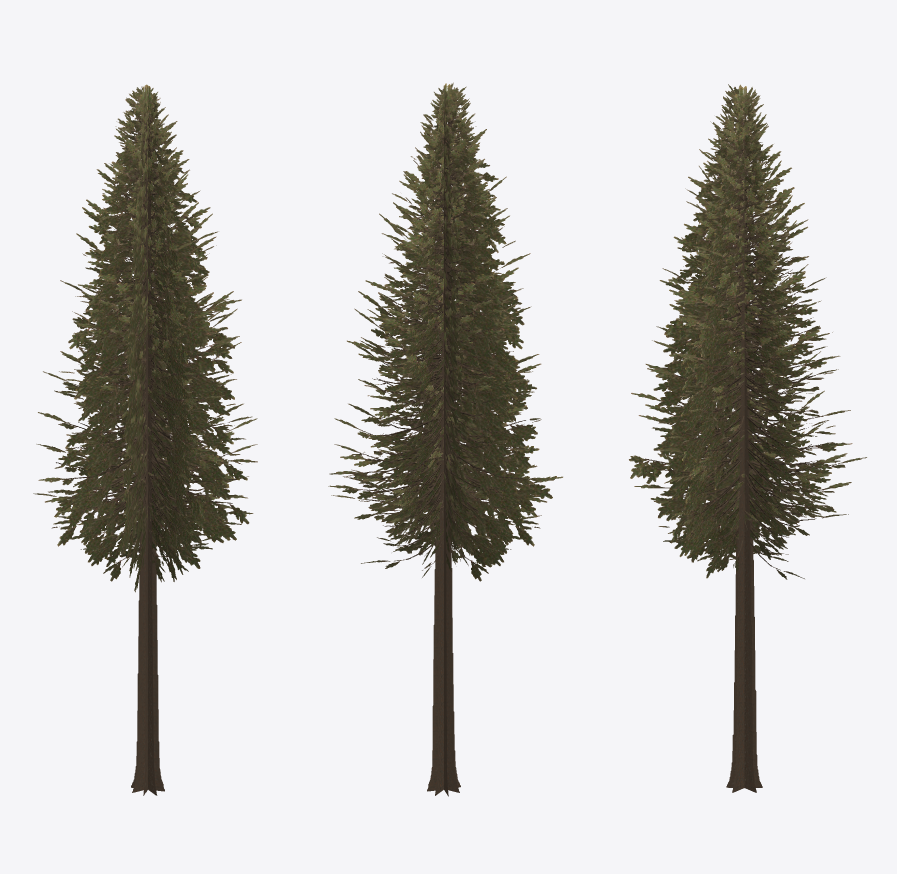
Rendered from fir_giant_a_lod3_cross.gltf.
3 views of the same model, side by side, from view 1: azimuth 30°, elevation 25°; view 2: azimuth 150°, elevation 25°; view 3: azimuth 270°, elevation 25° (orthographic).
Visible parts, largest first — view 1: fir_giant_a_LOD3; view 2: fir_giant_a_LOD3; view 3: fir_giant_a_LOD3.
Part boxes in pixels (x1,y1,x2,y2): fir_giant_a_LOD3: (33, 84, 257, 795); fir_giant_a_LOD3: (328, 82, 562, 796); fir_giant_a_LOD3: (629, 84, 866, 792).
Size of the model in its own units: 14.48 by 42.21 by 14.48.
1 material, 1 textured.
